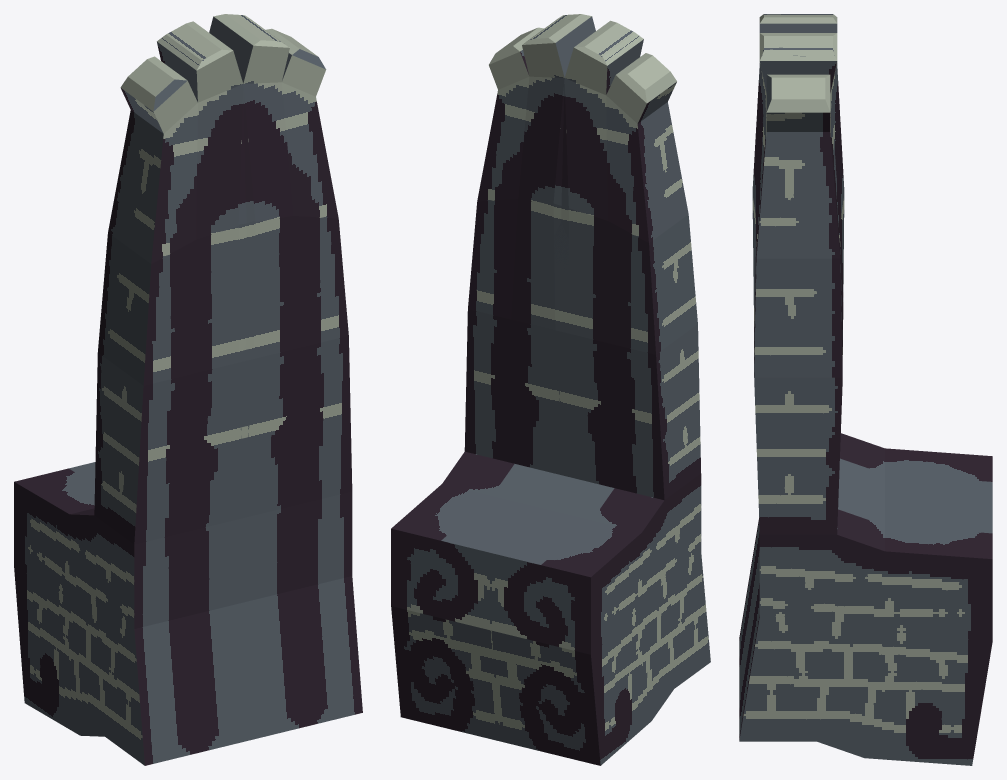
Rendered from throne2.glb.
The picture shows the model from 3 angles, left to right: view 1: azimuth 30°, elevation 25°; view 2: azimuth 150°, elevation 25°; view 3: azimuth 270°, elevation 25°; orthographic projection. The views are drawn at different scales.
Visible parts, largest first — view 1: Cube.202; view 2: Cube.202; view 3: Cube.202.
Part boxes in pixels (x1=…): Cube.202: x1=14, y1=14, x2=362, y2=765; Cube.202: x1=391, y1=14, x2=710, y2=765; Cube.202: x1=739, y1=14, x2=992, y2=765.
Bounding box in the file's own units: 6.3 × 19.61 × 6.55.
Materials: 1 (1 with a texture image).
